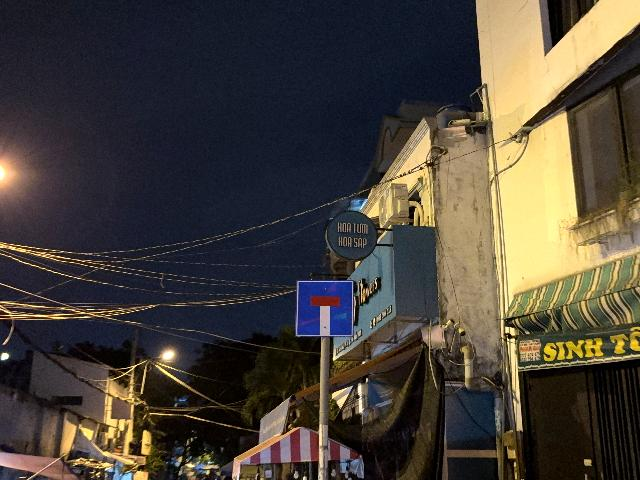duong-cut: (295, 279, 354, 338)
